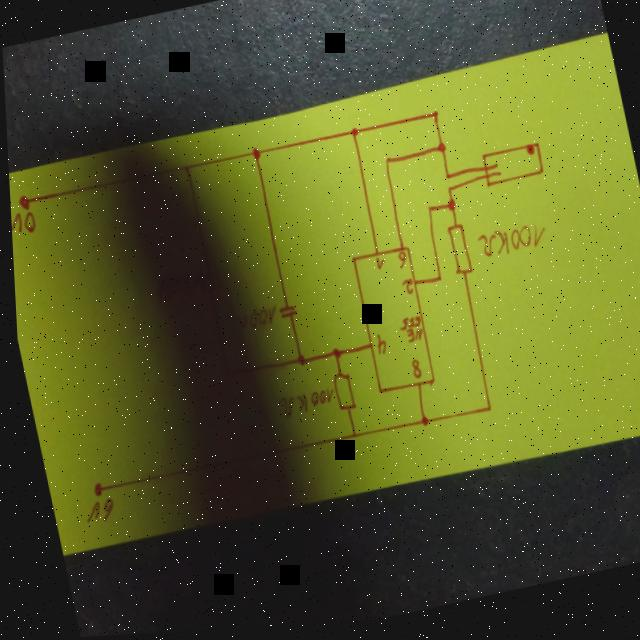capacitor: (272, 305, 295, 325)
junction: (325, 348, 339, 365), (248, 149, 261, 165), (291, 356, 303, 372), (216, 369, 228, 385), (443, 203, 455, 218), (413, 420, 425, 434), (434, 146, 445, 160), (347, 131, 357, 143), (429, 114, 438, 127), (180, 165, 189, 176), (381, 160, 389, 172), (424, 209, 432, 221), (345, 433, 352, 445), (442, 177, 449, 187), (433, 280, 440, 289), (480, 409, 487, 418), (445, 190, 450, 199)
resistor: (442, 227, 470, 284), (326, 374, 353, 419)
switch: (476, 145, 543, 195), (189, 267, 214, 299)
terminal: (13, 192, 30, 213), (84, 481, 100, 500)
text: (473, 227, 547, 267), (272, 389, 332, 422), (221, 306, 276, 337), (150, 274, 190, 305), (76, 497, 112, 528), (393, 319, 420, 349), (9, 210, 36, 238), (369, 337, 383, 361), (405, 363, 419, 385), (398, 282, 411, 300), (393, 256, 405, 273), (371, 260, 383, 275)
